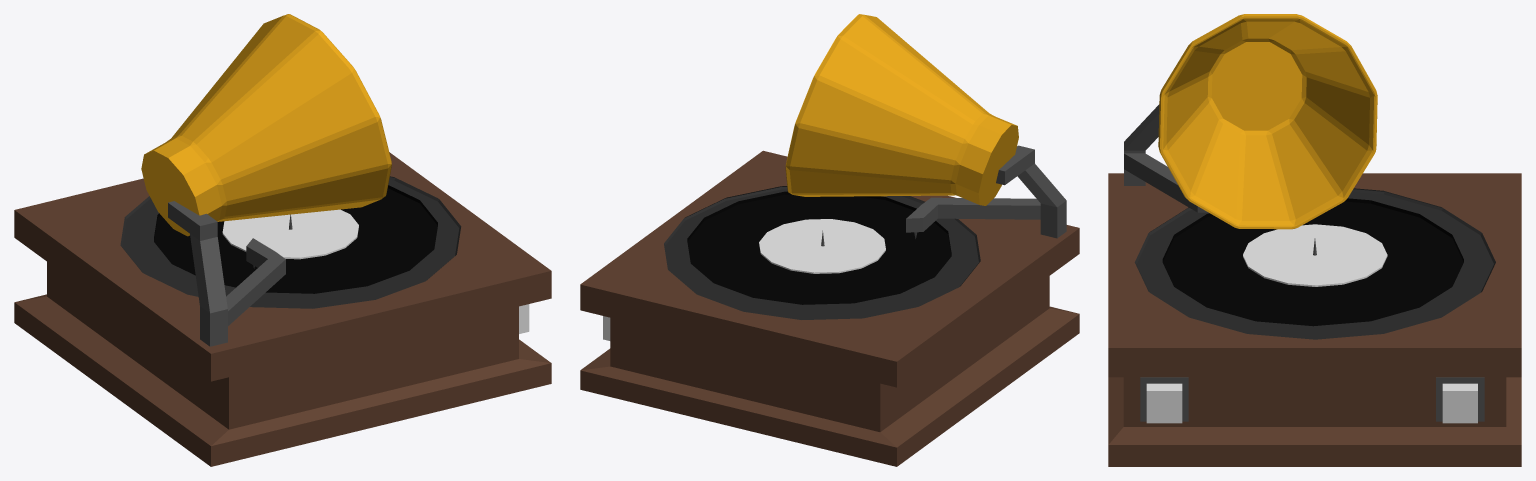
File: GrammaPhone.fbx
The picture shows the model from 3 angles, left to right: view 1: azimuth 30°, elevation 25°; view 2: azimuth 150°, elevation 25°; view 3: azimuth 270°, elevation 25°; orthographic projection. The views are drawn at different scales.
Parts seen in each view (by area): view 1: Base, Cylinder, Record, Baseplate, Circle.002, Cube, Arm; view 2: Base, Cylinder, Record, Baseplate, Circle.002, Arm, Cube; view 3: Base, Cylinder, Record, Baseplate, Circle.002, Arm, buttonPress1, buttonPress1.001, Cube, buttonBase1, buttonBase1.001.
Part boxes in pixels (x1=…): Base: x1=14, y1=152, x2=551, y2=466; Cylinder: x1=141, y1=14, x2=391, y2=236; Record: x1=154, y1=185, x2=437, y2=293; Baseplate: x1=120, y1=176, x2=461, y2=308; Circle.002: x1=222, y1=209, x2=358, y2=259; Cube: x1=168, y1=201, x2=227, y2=346; Arm: x1=226, y1=238, x2=285, y2=325; Base: x1=580, y1=150, x2=1079, y2=466; Cylinder: x1=785, y1=14, x2=1018, y2=205; Record: x1=687, y1=191, x2=951, y2=304; Baseplate: x1=664, y1=186, x2=980, y2=319; Circle.002: x1=759, y1=219, x2=885, y2=273; Arm: x1=906, y1=197, x2=1040, y2=232; Cube: x1=996, y1=145, x2=1066, y2=238; Base: x1=1108, y1=173, x2=1521, y2=466; Cylinder: x1=1158, y1=14, x2=1377, y2=229; Record: x1=1162, y1=198, x2=1463, y2=326; Baseplate: x1=1134, y1=188, x2=1495, y2=339; Circle.002: x1=1243, y1=224, x2=1387, y2=286; Arm: x1=1124, y1=153, x2=1208, y2=212; buttonPress1: x1=1146, y1=383, x2=1182, y2=423; buttonPress1.001: x1=1442, y1=383, x2=1477, y2=423; Cube: x1=1124, y1=104, x2=1159, y2=185; buttonBase1: x1=1140, y1=377, x2=1188, y2=421; buttonBase1.001: x1=1436, y1=377, x2=1484, y2=421.
Bounding box in the file's own units: 200 × 195 × 200.
